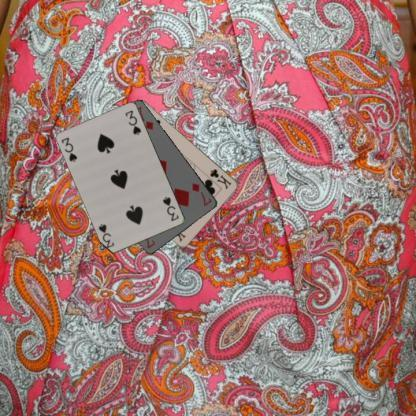3s: (59, 134, 79, 164), (160, 194, 180, 223)
7d: (188, 180, 214, 208)
Kc: (207, 166, 233, 190)
